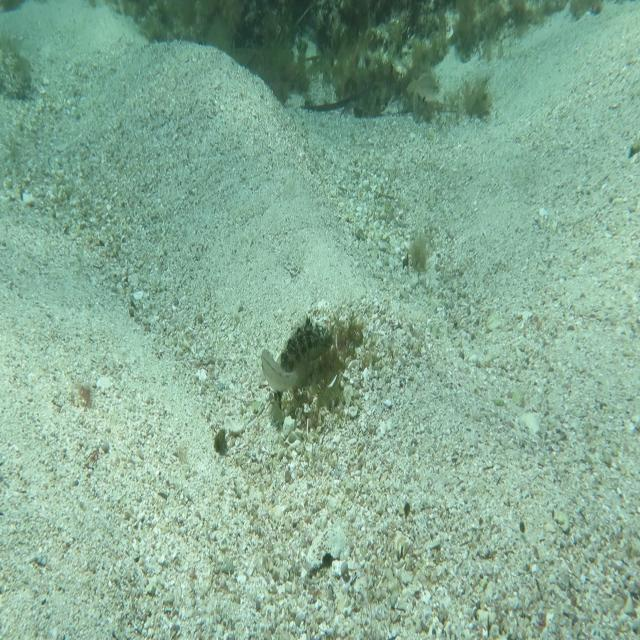DAN_CIRC: (269, 311, 335, 431)
female: (257, 345, 311, 398)
nest: (277, 309, 366, 426)
vegetation: (104, 0, 542, 45), (216, 46, 425, 94), (400, 239, 426, 284), (210, 434, 231, 466)
